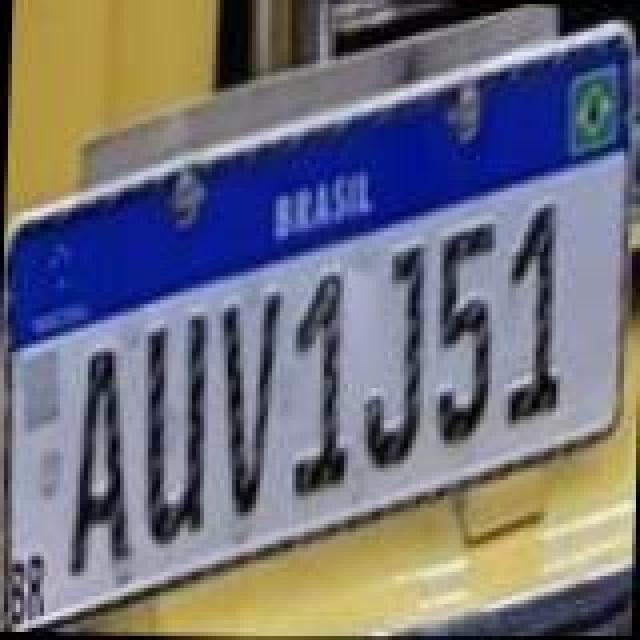1: (282, 262, 354, 502), (502, 192, 570, 424)
5: (428, 212, 500, 452)
A: (66, 340, 134, 572)
J: (354, 232, 426, 472)
U: (136, 300, 208, 548)
V: (212, 282, 280, 518)
